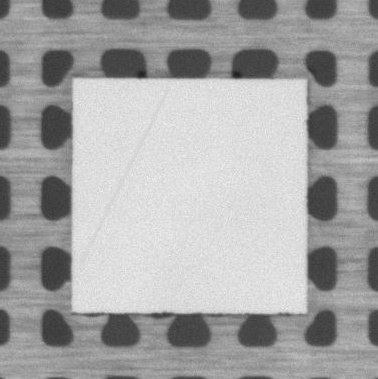DIE_CRACK: (82, 87, 169, 263)
